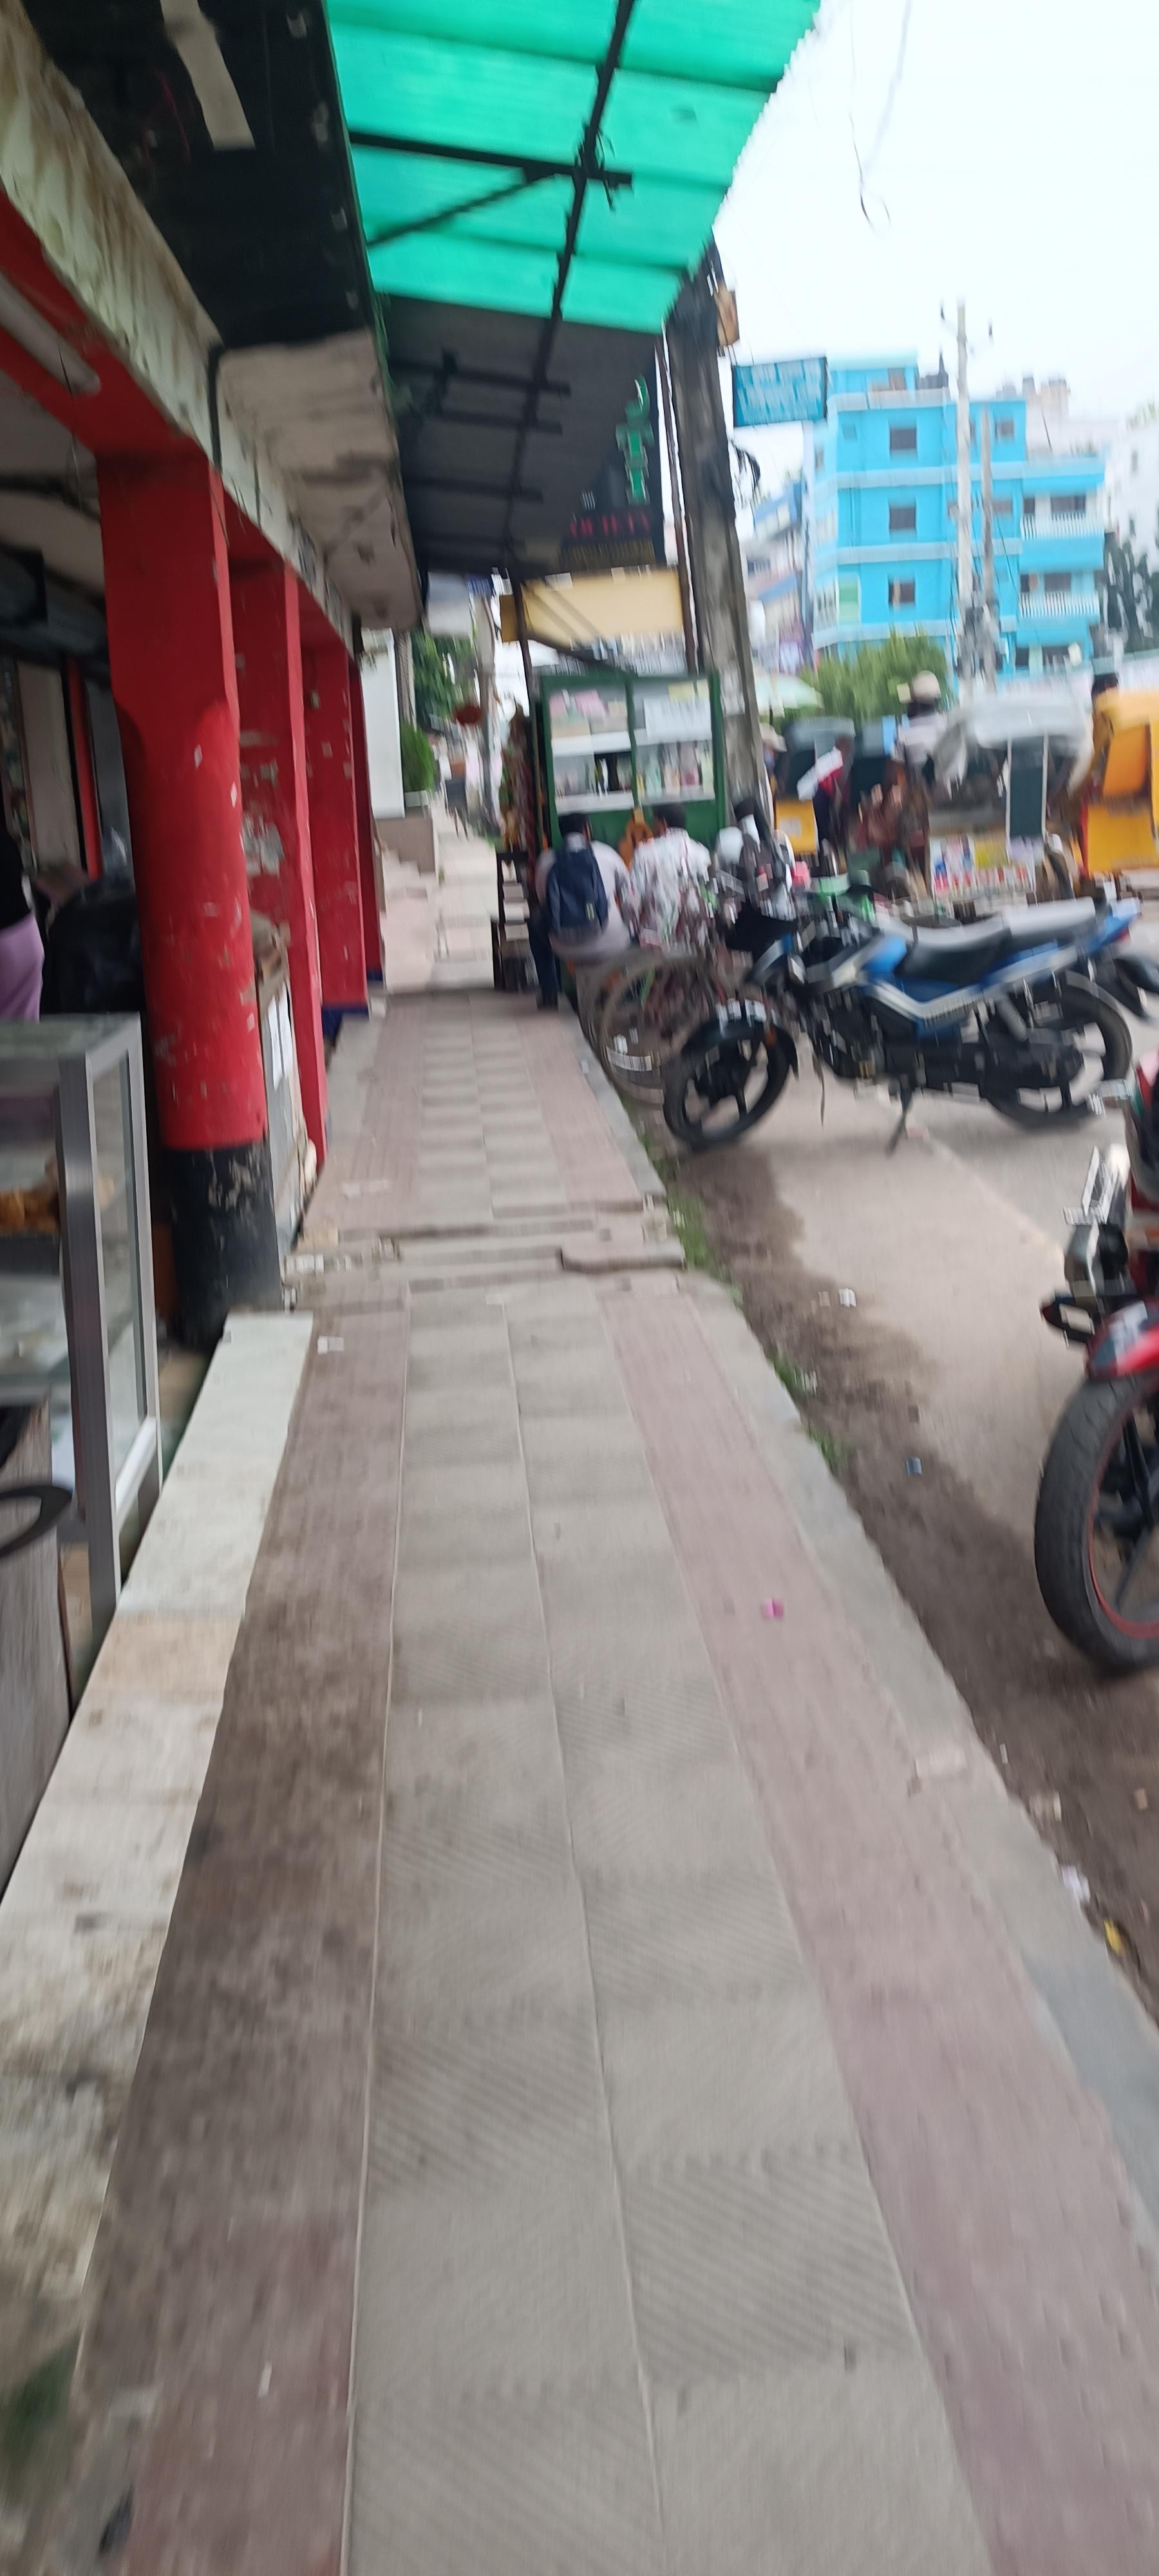Fallen-tree: (625, 856, 1159, 1127), (1029, 1056, 1157, 1677)
Pothole: (8, 793, 1154, 2571)
